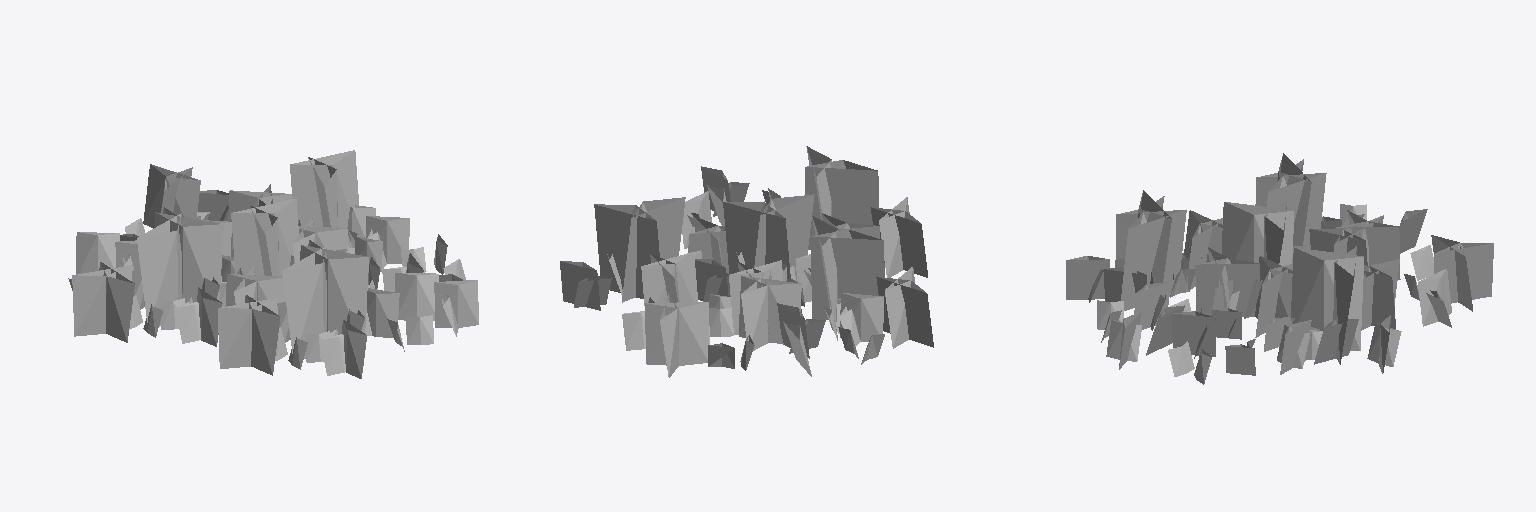
The model's file is gras-long-dry.obj.
3 renders of one model, left to right at view 1: azimuth 30°, elevation 25°; view 2: azimuth 150°, elevation 25°; view 3: azimuth 270°, elevation 25°, orthographic.
Parts seen in each view (by area): view 1: gras_long, gras_long_LOD02, gras_long_LOD1; view 2: gras_long_LOD02, gras_long, gras_long_LOD1; view 3: gras_long_LOD02, gras_long, gras_long_LOD1.
Boxes of the visible parts, box(x1,y1,x2,y2) form: gras_long: box(68, 150, 478, 378); gras_long_LOD02: box(77, 150, 366, 331); gras_long_LOD1: box(80, 180, 474, 342); gras_long_LOD02: box(560, 146, 933, 357); gras_long: box(562, 146, 925, 377); gras_long_LOD1: box(564, 161, 913, 376); gras_long_LOD02: box(1066, 153, 1493, 374); gras_long: box(1070, 156, 1490, 384); gras_long_LOD1: box(1067, 177, 1462, 375).
Bounding box in the file's own units: 361 × 90.27 × 385.